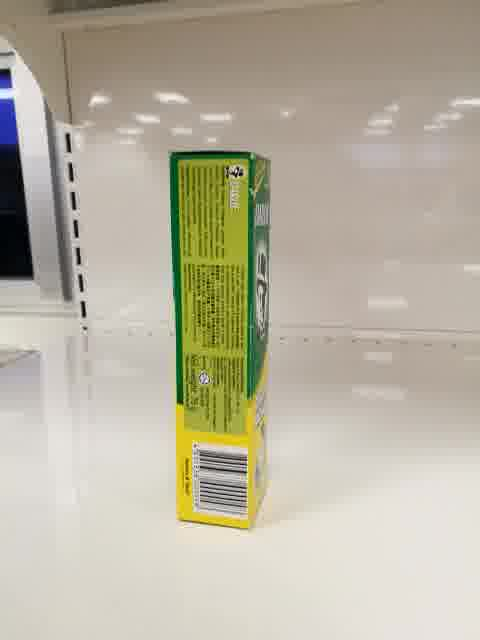toothpaste: (168, 151, 271, 530)
